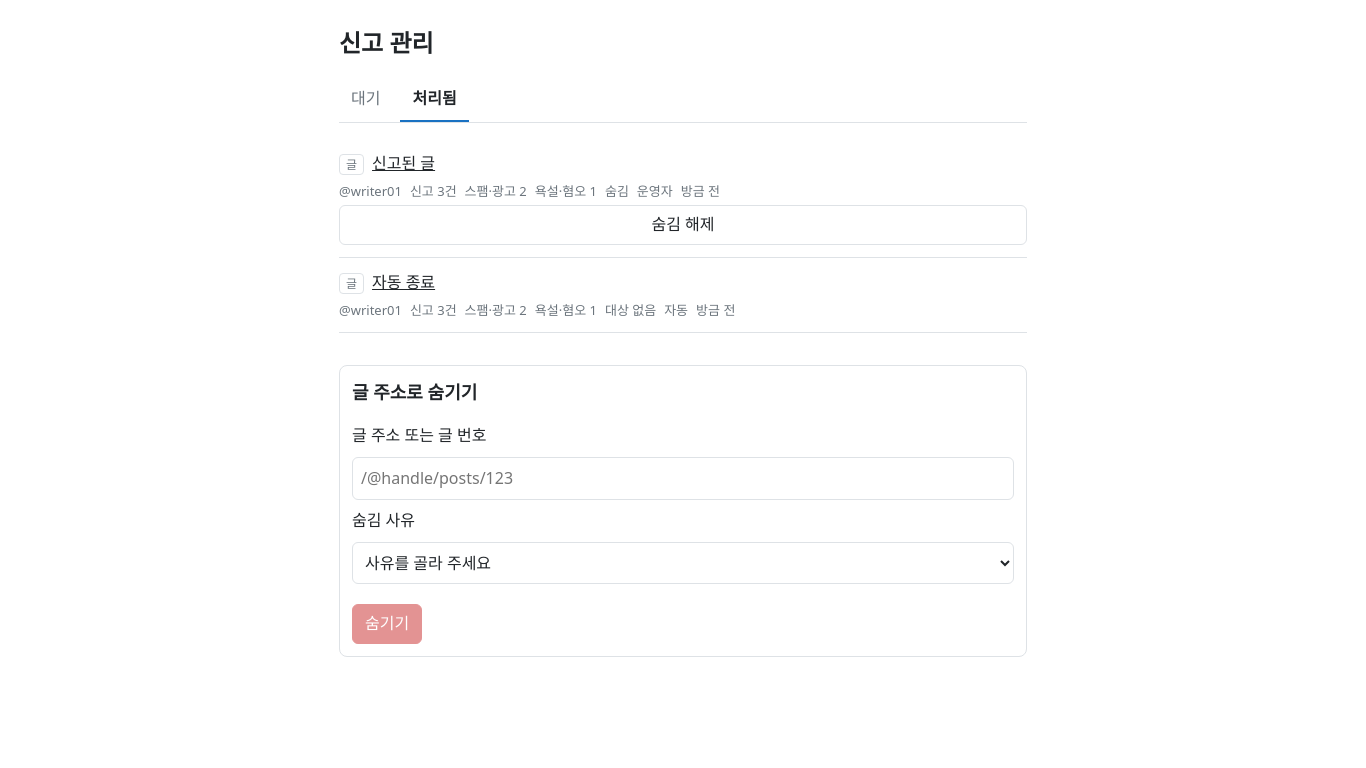
Test case: AdminReportsPage › 처리됨 탭: 결과·처리자, 지금 숨김이면 [숨김 해제] → 확인 → DELETE → 버튼 사라짐, 결과는 숨김 그대로
Expected: the text with test id "case-status" reads "숨김", [605,182,629,200]
Expected: the text "운영자" is shown, [637,181,673,201]
Click the button "숨김 해제": click(683, 225) [339,205,1027,245]
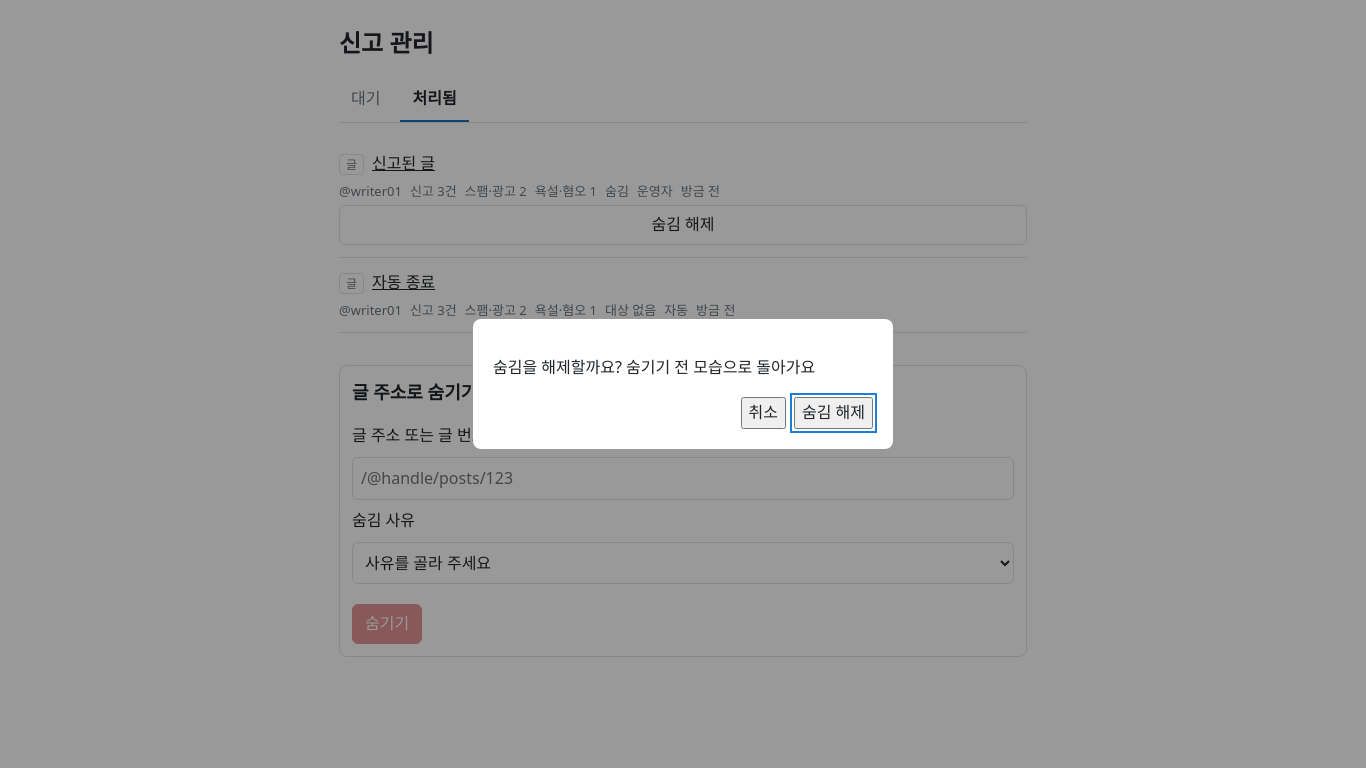
Click the button "숨김 해제": click(834, 413) [794,397,873,429]
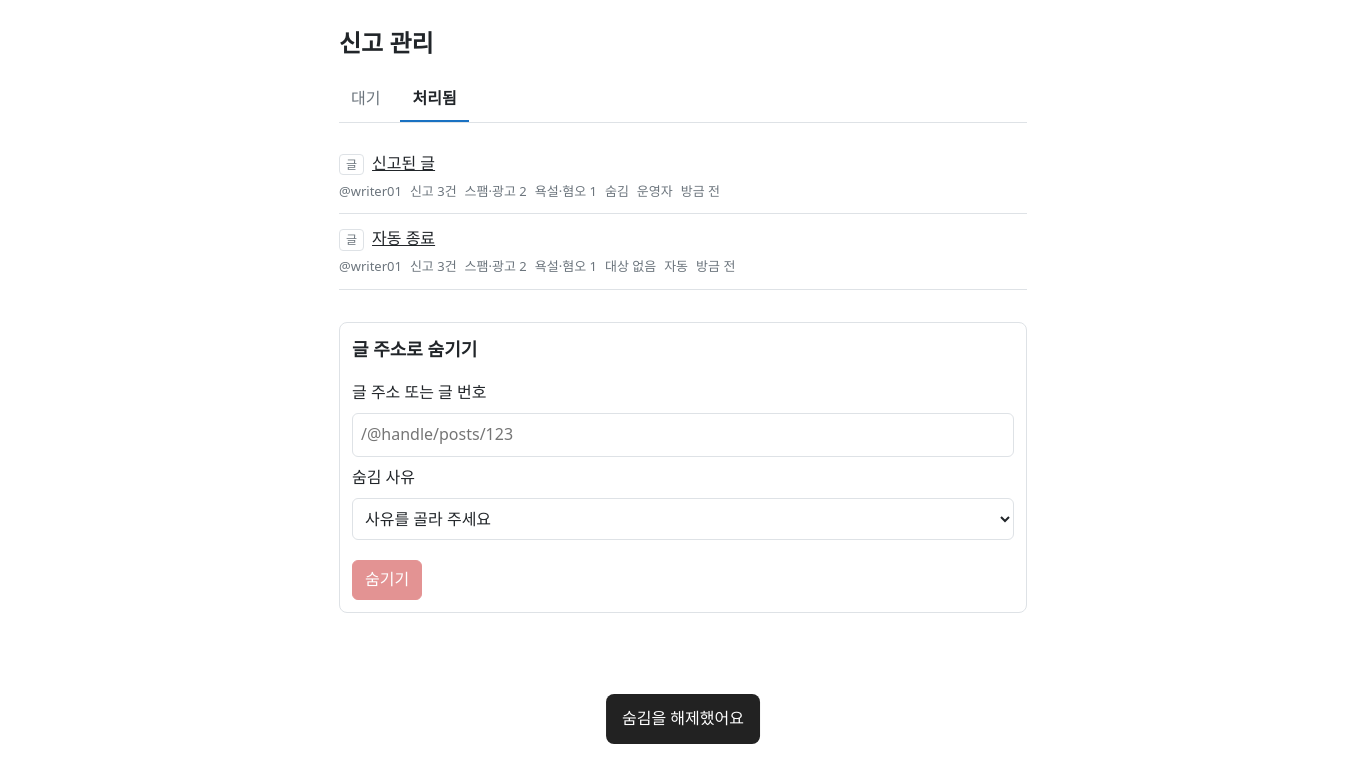
Expected: the text with test id "case-status" reads "숨김", [605,182,629,200]
Result: the button "숨김 해제" is gone
